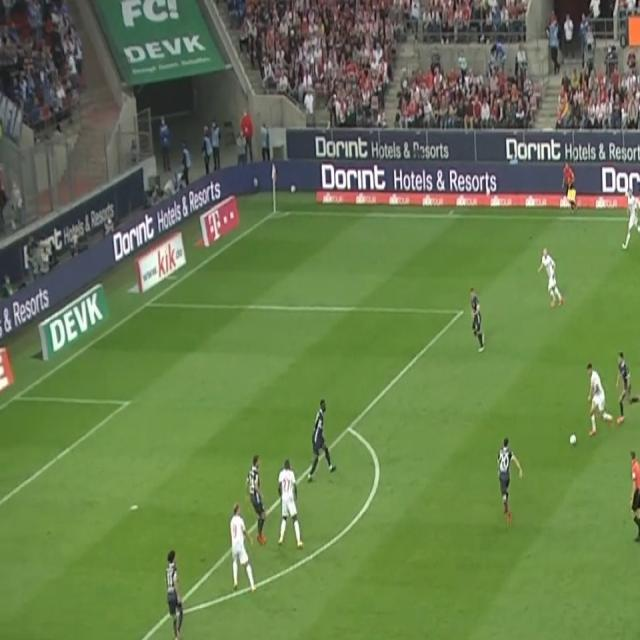ball: (569, 431, 577, 448)
